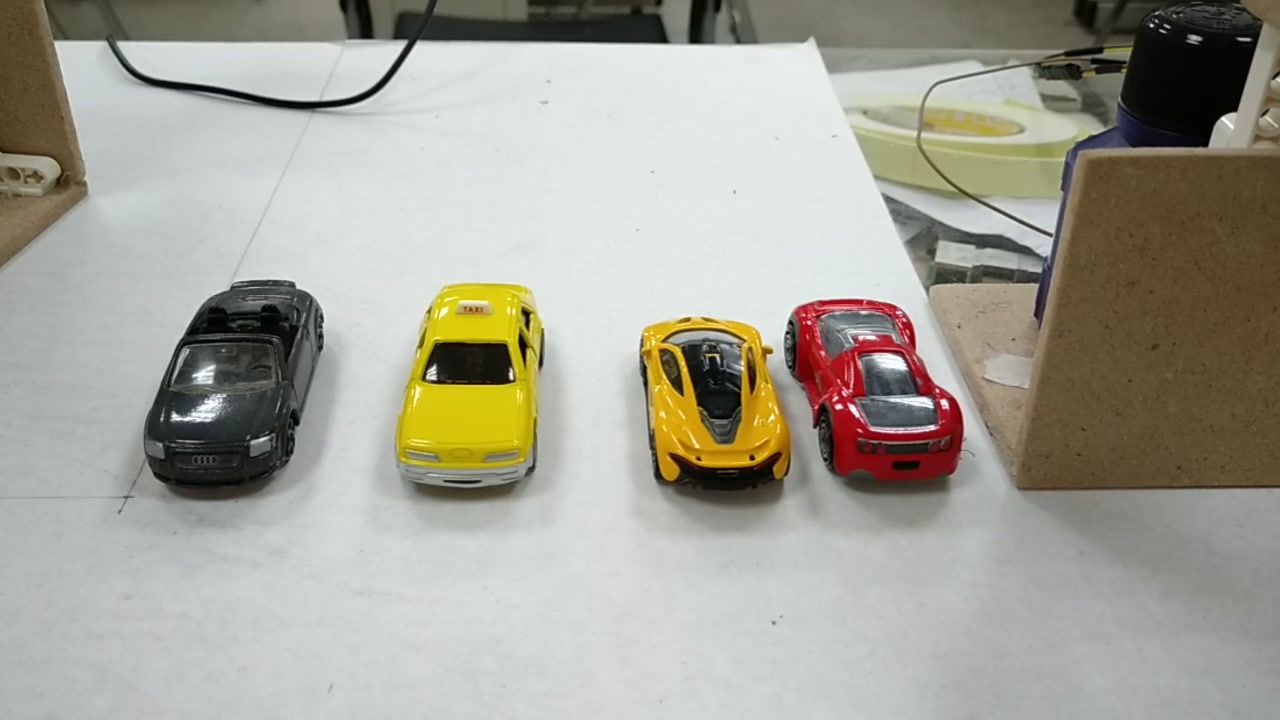car: (139, 279, 328, 496), (792, 295, 963, 485), (395, 279, 555, 481), (632, 308, 790, 488)
